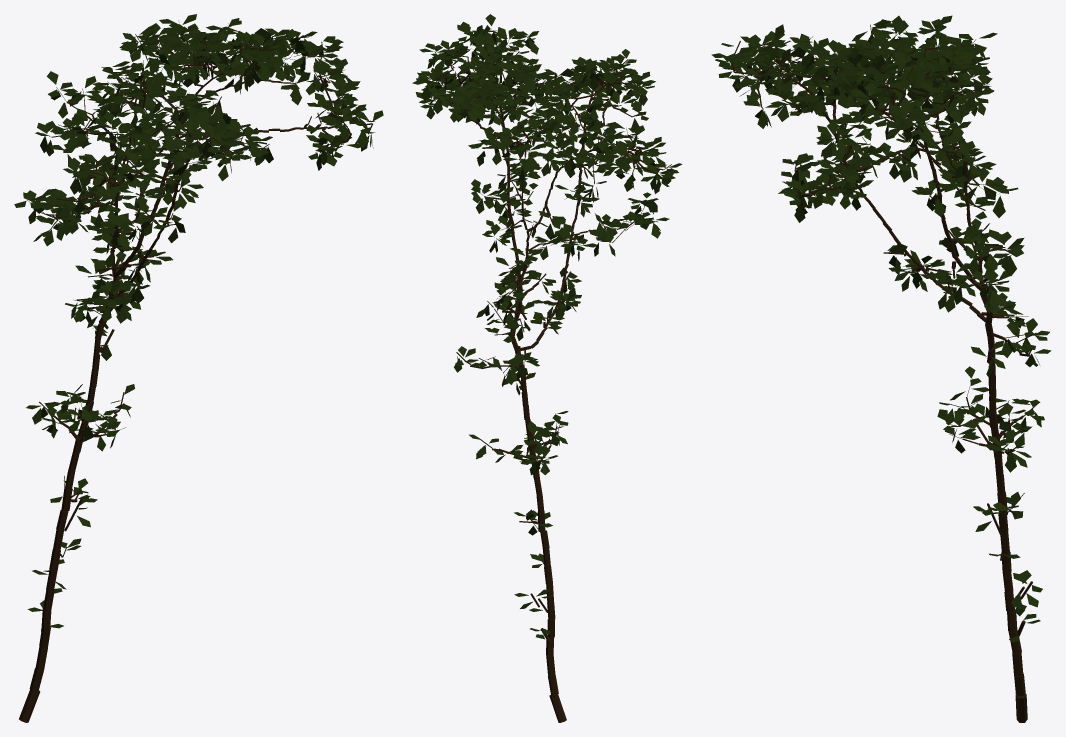
Rendered from tree_522.obj.
3 renders of one model, left to right at view 1: azimuth 30°, elevation 25°; view 2: azimuth 150°, elevation 25°; view 3: azimuth 270°, elevation 25°, orthographic. The views are drawn at different scales.
Parts seen in each view (by area): view 1: Leaves, TrunkAndBranches; view 2: Leaves, TrunkAndBranches; view 3: Leaves, TrunkAndBranches.
Part boxes in pixels (x1,y1,x2,y2): Leaves: (14,14,383,628); TrunkAndBranches: (19,20,372,722); Leaves: (412,14,682,639); TrunkAndBranches: (428,29,671,722); Leaves: (711,15,1051,642); TrunkAndBranches: (731,24,1037,722).
Bounding box in the file's own units: 5.46 × 11.79 × 4.81.
